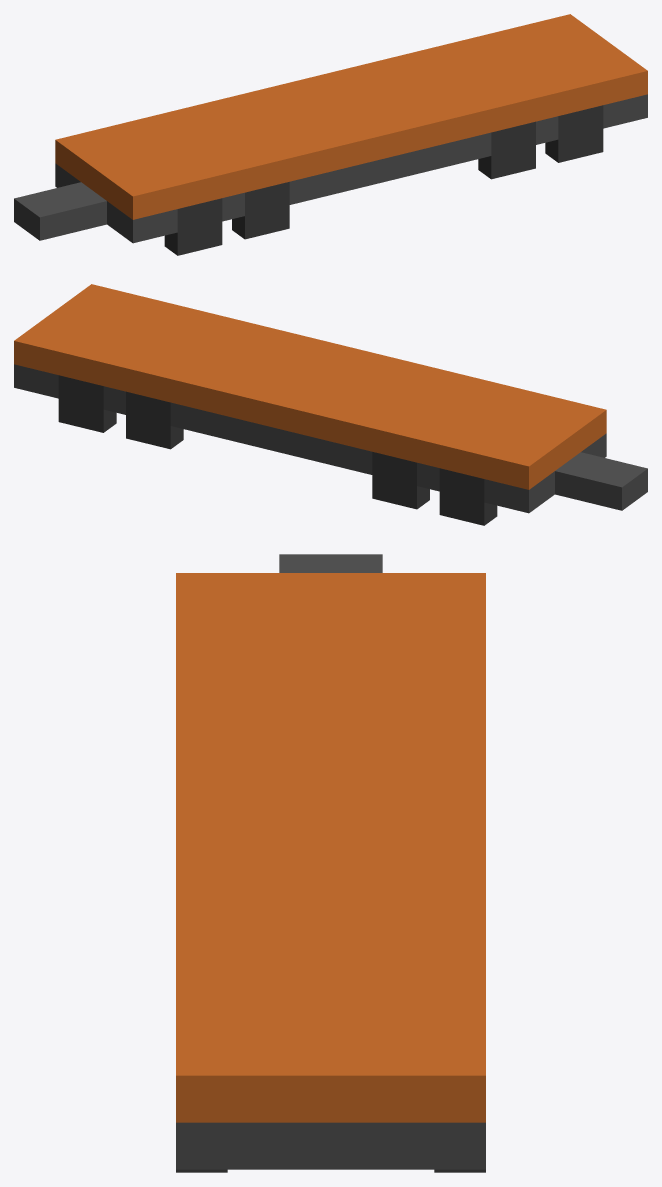
File: train-trailer-v6-orange.gltf
3 renders of one model, top to bottom at view 1: azimuth 30°, elevation 25°; view 2: azimuth 150°, elevation 25°; view 3: azimuth 270°, elevation 25°, orthographic. The views are drawn at different scales.
Visible parts, largest first — view 1: model, wheels; view 2: model, wheels; view 3: model.
Boxes of the visible parts, x1,y1,x2,y2 form: model: [14, 14, 647, 243]; wheels: [164, 105, 603, 255]; model: [14, 284, 647, 513]; wheels: [58, 375, 497, 525]; model: [176, 554, 485, 1169].
Bounding box in the file's own units: 2.6 × 0.3 × 0.6.
2 materials, 2 textured.
